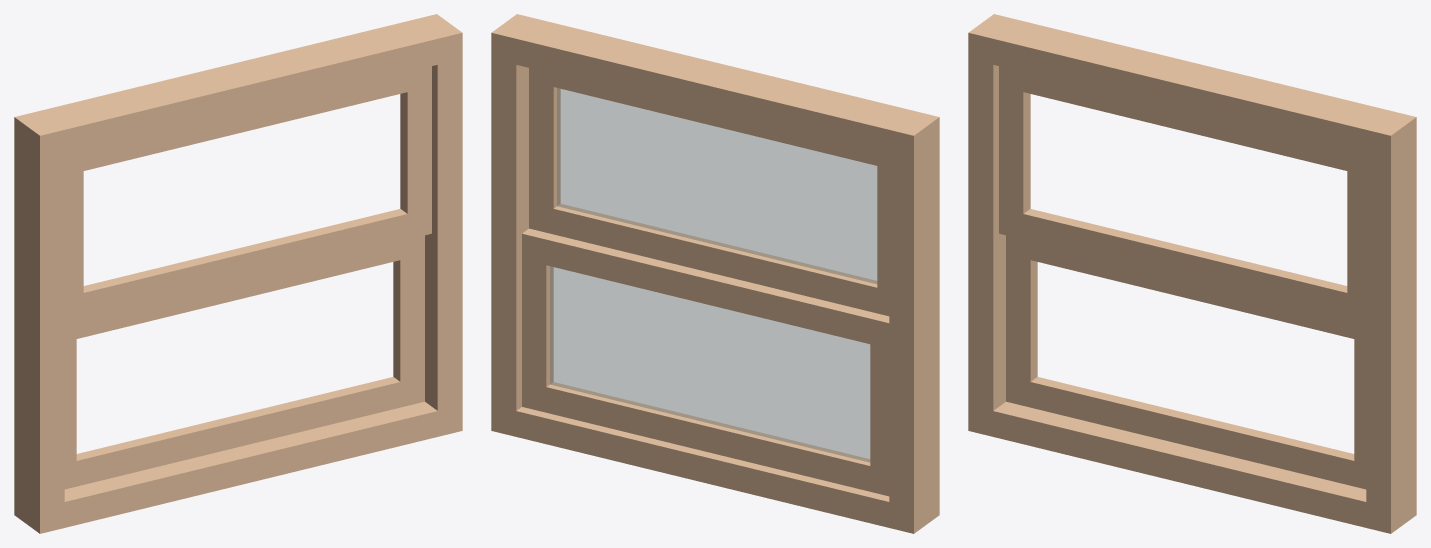
The model's file is finestra-larga.glb.
3 renders of one model, left to right at view 1: azimuth 30°, elevation 25°; view 2: azimuth 150°, elevation 25°; view 3: azimuth 330°, elevation 25°, orthographic.
Visible parts, largest first — view 1: wallWindowSlide(Clone), windowWideTop, windowWideBottom; view 2: windowWideBottom, wallWindowSlide(Clone), windowWideTop; view 3: wallWindowSlide(Clone), windowWideTop, windowWideBottom.
Part boxes in pixels (x1,y1,x2,y2): wallWindowSlide(Clone): (14, 14, 462, 533); windowWideTop: (64, 66, 431, 322); windowWideBottom: (64, 235, 424, 489); windowWideBottom: (522, 228, 889, 496); wallWindowSlide(Clone): (491, 14, 939, 533); windowWideTop: (529, 68, 889, 316); wallWindowSlide(Clone): (968, 14, 1416, 533); windowWideTop: (999, 66, 1366, 322); windowWideBottom: (1006, 235, 1366, 489).
Bounding box in the file's own units: 0.848 × 0.7635 × 0.0891.
